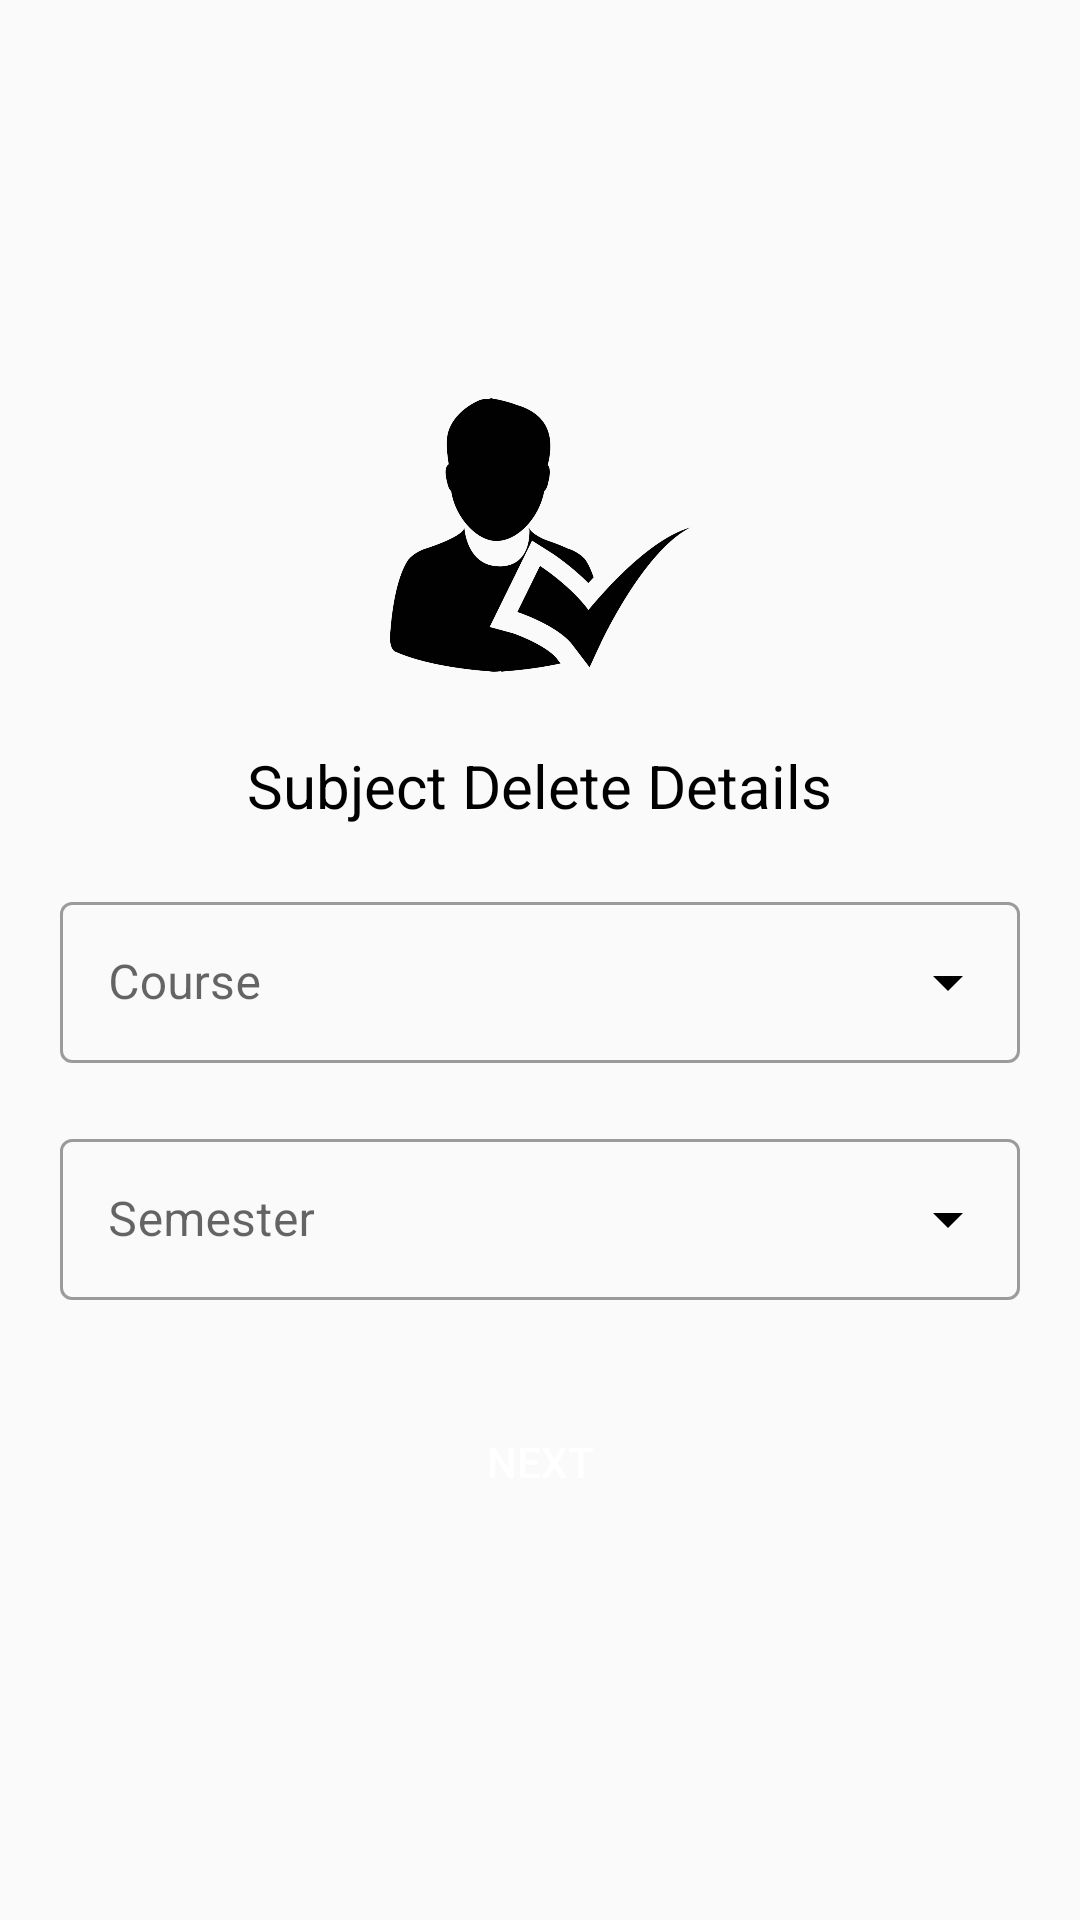

Locate icon controls on the screen. Image size 1080*1920, boxes as [x1, y1, x2, y2].
attendance: [390, 398, 689, 672]
